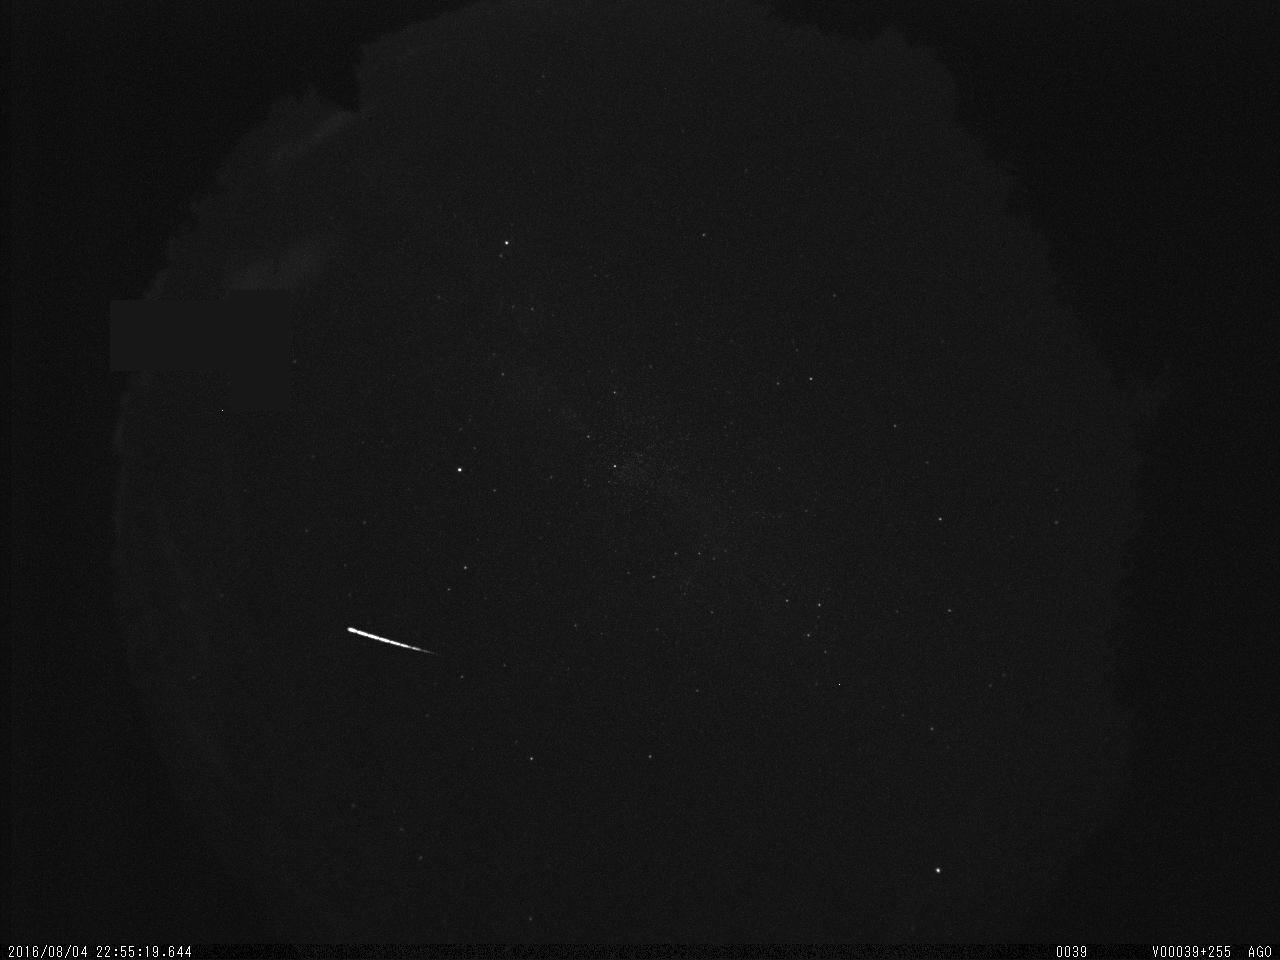meteor: (323, 613, 459, 670)
